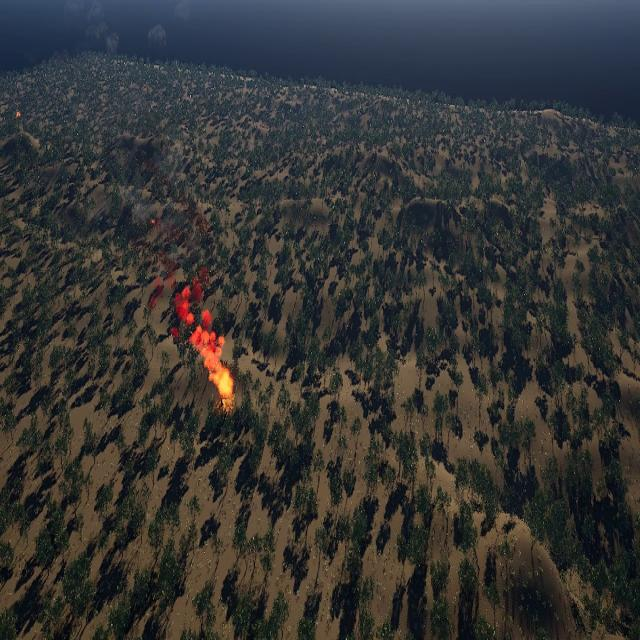fire: (213, 367, 232, 399), (14, 109, 20, 118), (150, 218, 156, 225)
smoke: (117, 142, 228, 370), (63, 0, 192, 64)
